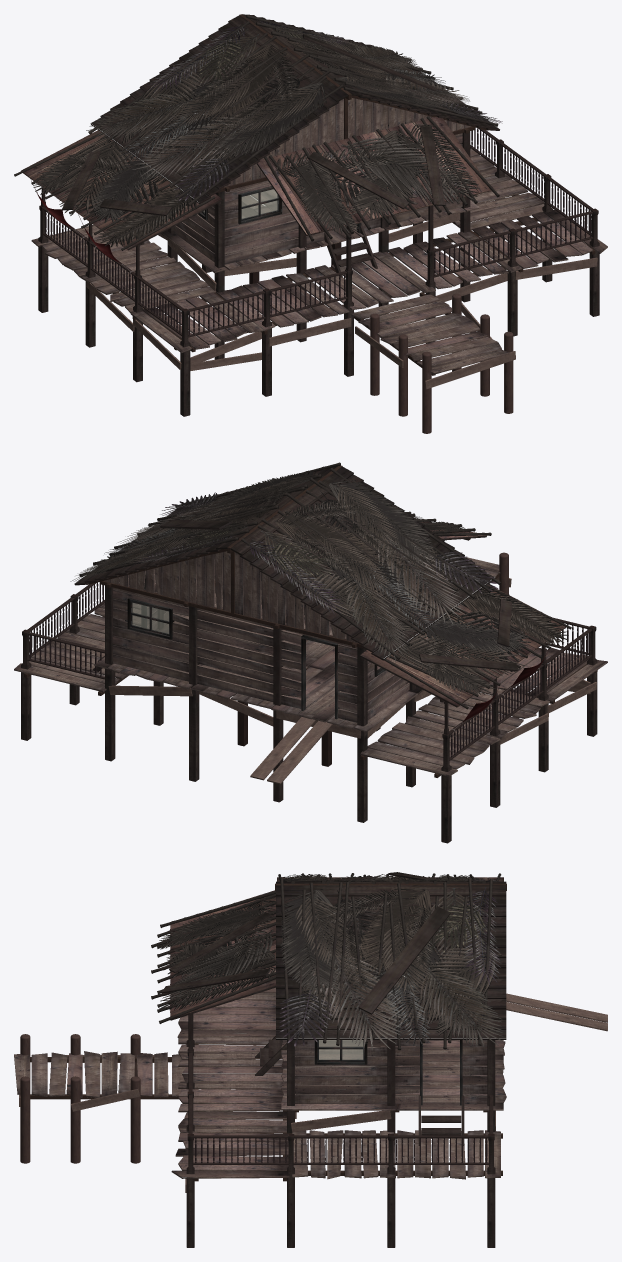
Rendered from dock_pier_78_n66e.glb.
3 views of the same model, one above another, from view 1: azimuth 30°, elevation 25°; view 2: azimuth 150°, elevation 25°; view 3: azimuth 270°, elevation 25° (orthographic). The views are drawn at different scales.
Visible parts, largest first — view 1: VALVoodoohut_MainB.Shape; view 2: VALVoodoohut_MainB.Shape; view 3: VALVoodoohut_MainB.Shape.
Part boxes in pixels (x1,y1,x2,y2): VALVoodoohut_MainB.Shape: (14,14,607,433); VALVoodoohut_MainB.Shape: (14,462,607,843); VALVoodoohut_MainB.Shape: (14,872,607,1247).
Size of the model in its own units: 13.36 by 7.04 by 14.45.
29 materials, 27 textured.
